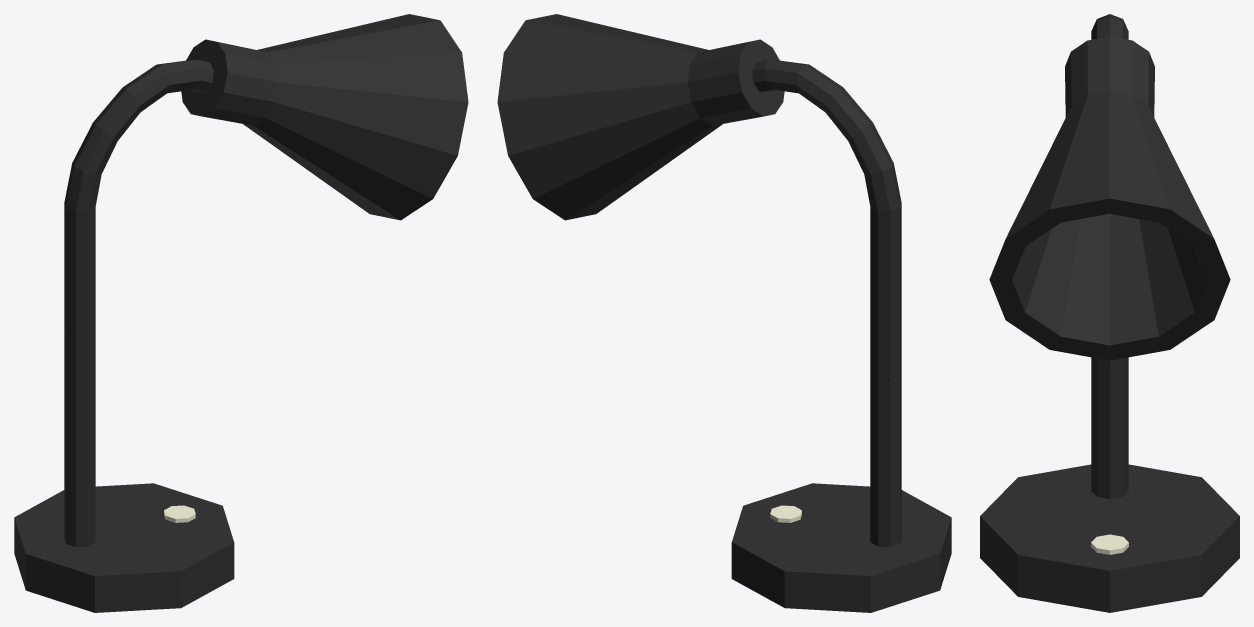
File: Lamp_Black.fbx
3 renders of one model, left to right at view 1: azimuth 30°, elevation 25°; view 2: azimuth 150°, elevation 25°; view 3: azimuth 270°, elevation 25°, orthographic. The views are drawn at different scales.
Visible parts, largest first — view 1: Lamp.002; view 2: Lamp.002; view 3: Lamp.002.
Boxes of the visible parts, x1=… form: Lamp.002: x1=14, y1=14, x2=468, y2=612; Lamp.002: x1=497, y1=14, x2=951, y2=612; Lamp.002: x1=980, y1=14, x2=1239, y2=612.
Size of the model in its own units: 29.47 by 34.09 by 14.
